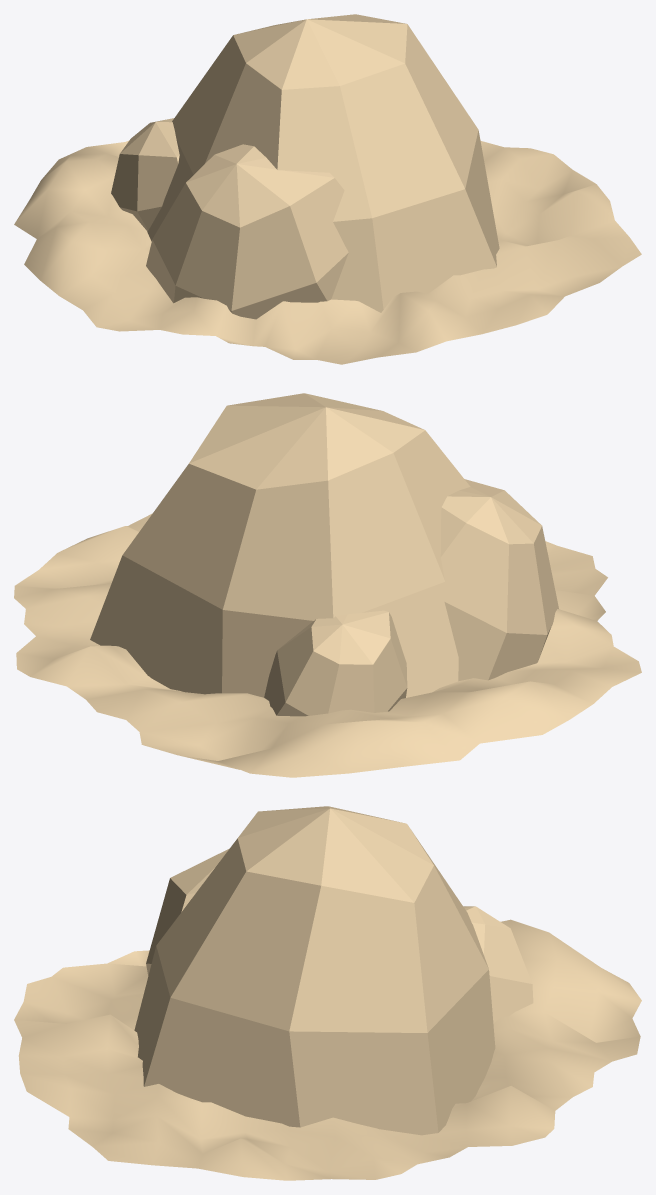
Rendered from rocherbeige.FBX.
3 renders of one model, top to bottom at view 1: azimuth 30°, elevation 25°; view 2: azimuth 150°, elevation 25°; view 3: azimuth 270°, elevation 25°, orthographic. The views are drawn at different scales.
Visible parts, largest first — view 1: Box001, Plane001, Box002, Box003; view 2: Box001, Plane001, Box002, Box003; view 3: Box001, Plane001, Box003, Box002.
Part boxes in pixels (x1=…): Box001: x1=147, y1=14, x2=499, y2=312; Plane001: x1=14, y1=140, x2=641, y2=364; Box002: x1=146, y1=144, x2=348, y2=319; Box003: x1=111, y1=118, x2=179, y2=230; Box001: x1=90, y1=393, x2=470, y2=697; Plane001: x1=14, y1=513, x2=641, y2=777; Box002: x1=440, y1=479, x2=558, y2=681; Box003: x1=264, y1=610, x2=407, y2=716; Box001: x1=134, y1=806, x2=495, y2=1135; Plane001: x1=14, y1=919, x2=641, y2=1180; Box003: x1=463, y1=906, x2=533, y2=1022; Box002: x1=146, y1=848, x2=229, y2=975.
Bounding box in the file's own units: 96.15 × 43.58 × 93.51.
